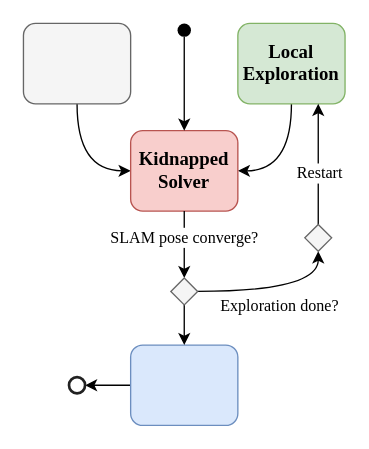
This 369x449 diagram has some shape labels left out. The shapes that lost their labels are listed below. From the top down, each one's centre as x and y in pixels, then its label:
At [76,63]: "Global SLAM".
At [183,384]: "Motion Planner Server".
